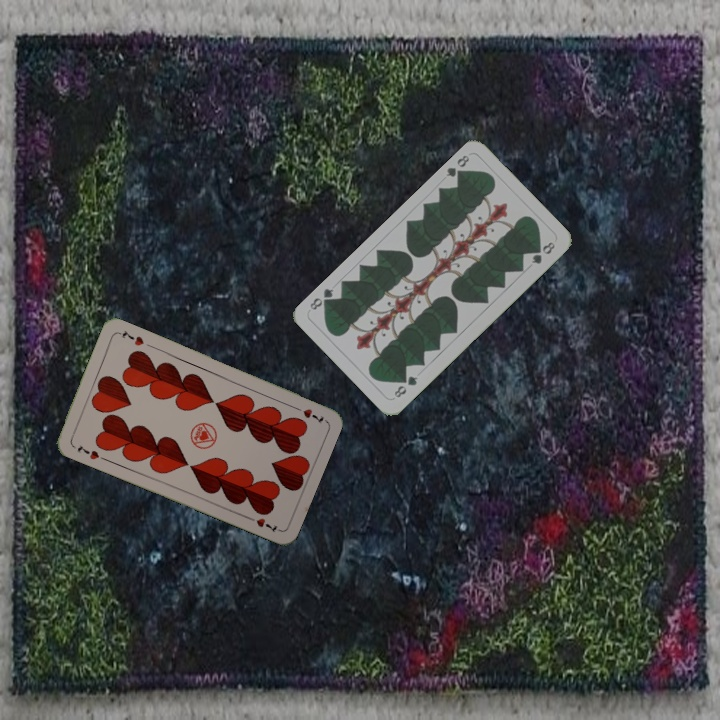G8: (442, 151, 472, 182), (390, 372, 420, 400)
H7: (289, 402, 328, 426), (73, 441, 102, 462)
